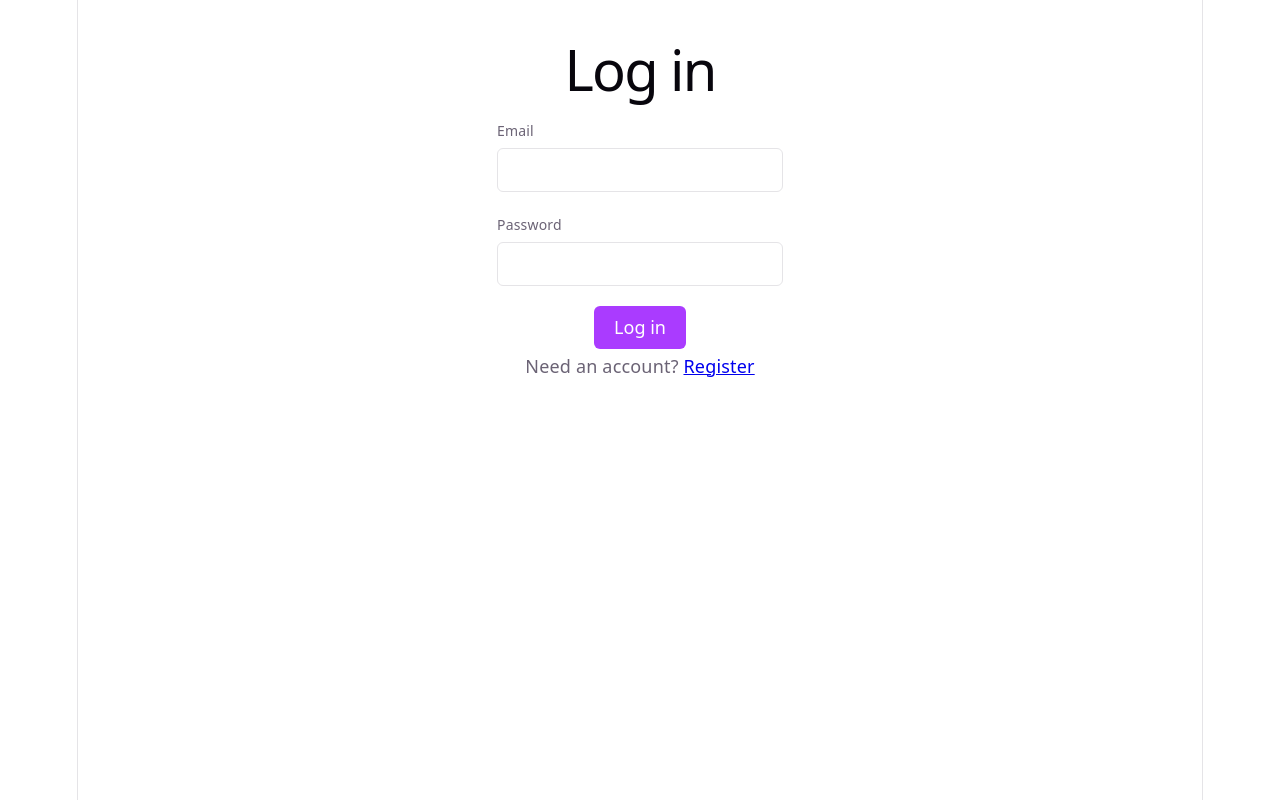
it: LoginPage › shows an error message when login fails
In the field labelled "Email": [640, 170] box [497,148,783,192], type "alice@scpay.test"
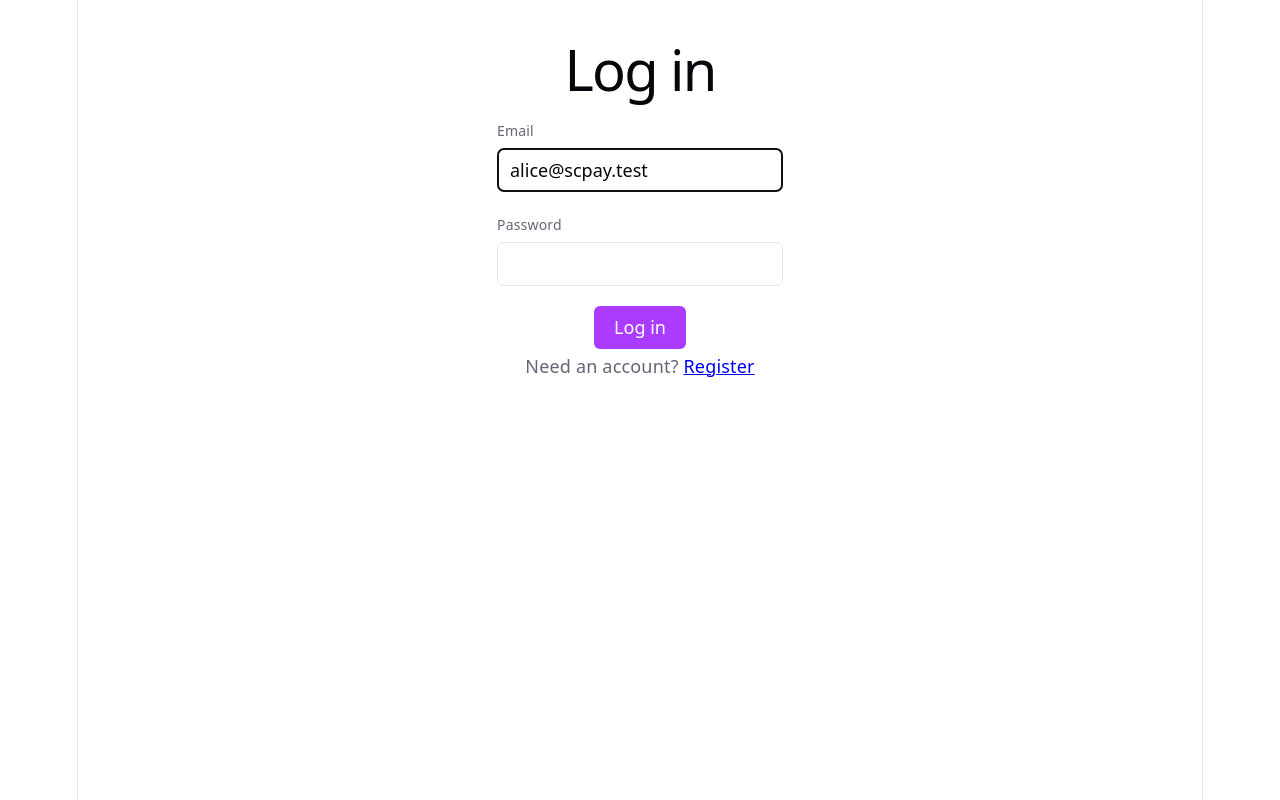
In the password field labelled "Password": [640, 264] box [497,242,783,286], type "wrong-password"
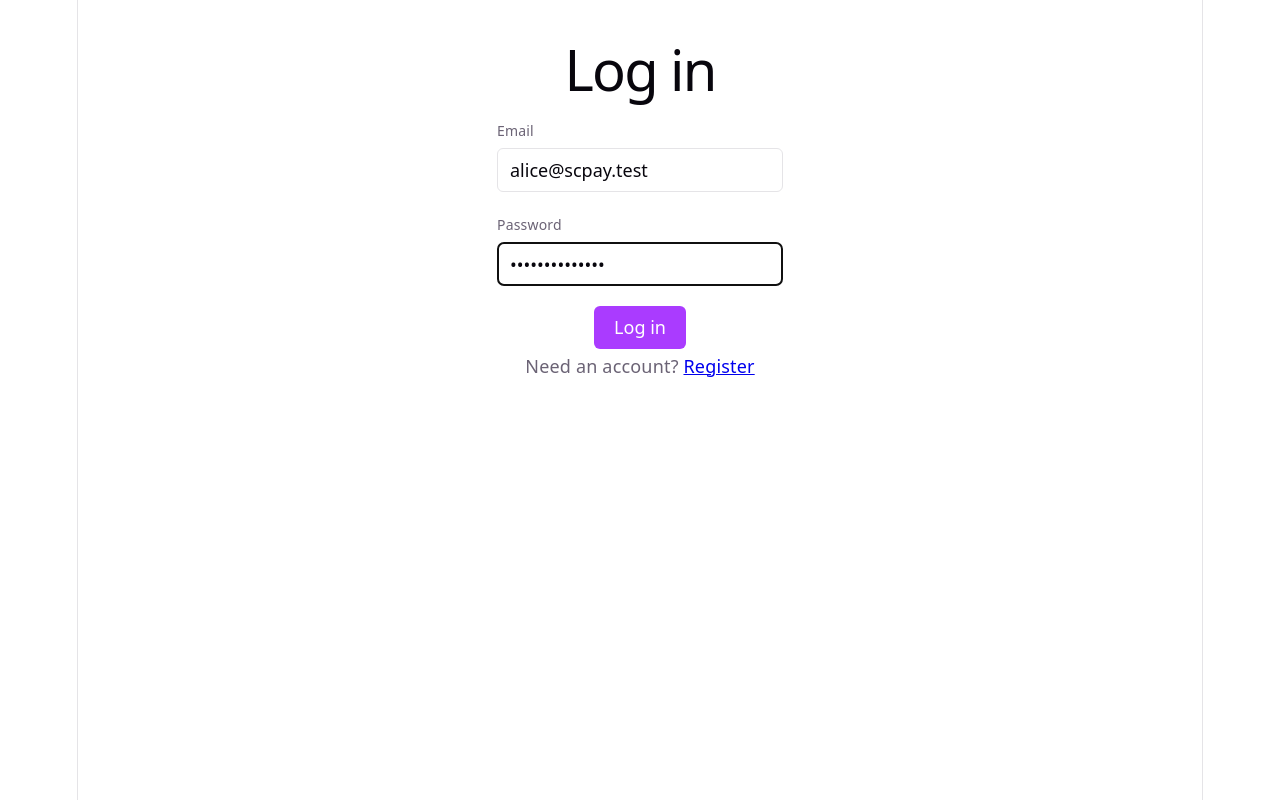
Click the button "Log in": [640, 328] box [594,306,686,349]
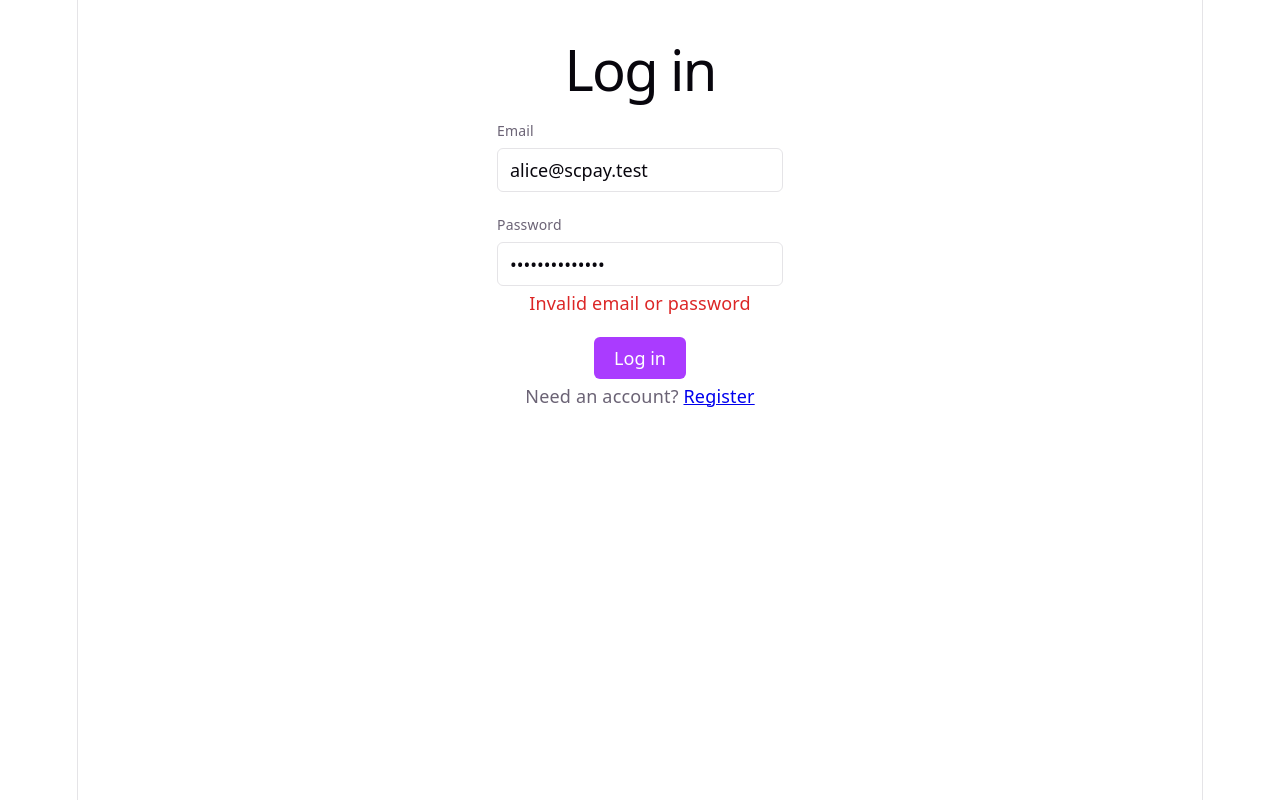
Expected: the message reads "Invalid email or password", [529,292,751,316]
